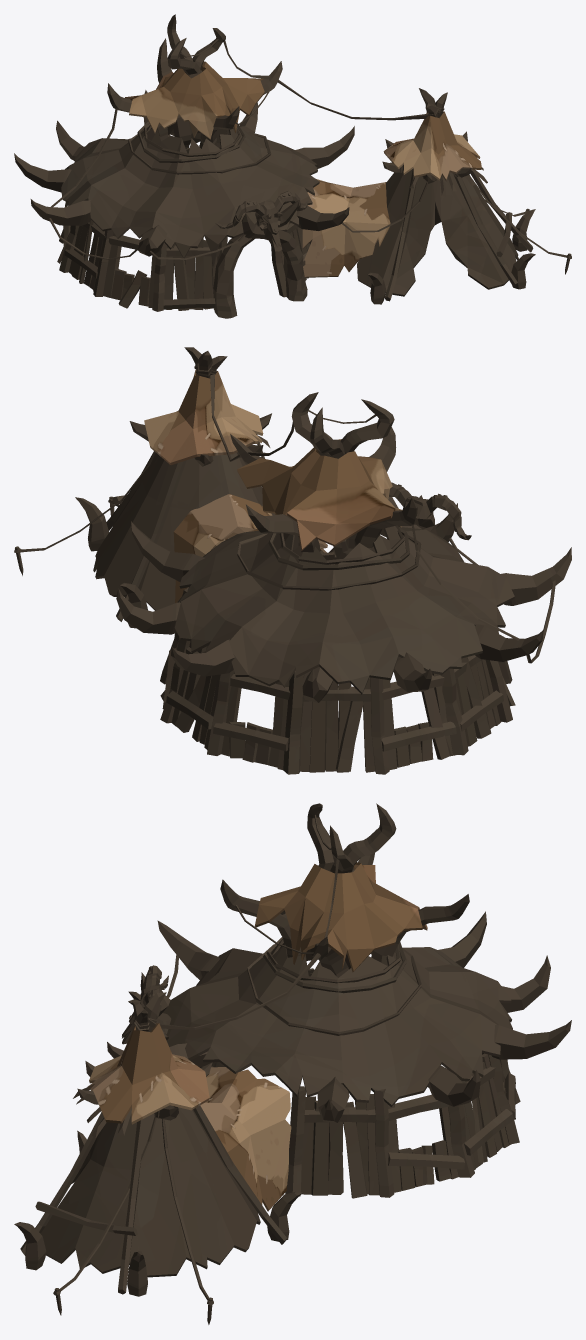
Rendered from bog_shaman_hut.gltf.
3 views of the same model, one above another, from view 1: azimuth 30°, elevation 25°; view 2: azimuth 150°, elevation 25°; view 3: azimuth 270°, elevation 25° (orthographic). The views are drawn at different scales.
Parts seen in each view (by area): view 1: bog_shaman_hut; view 2: bog_shaman_hut; view 3: bog_shaman_hut.
Boxes of the visible parts, x1=… form: bog_shaman_hut: x1=14, y1=14, x2=571, y2=318; bog_shaman_hut: x1=14, y1=347, x2=571, y2=774; bog_shaman_hut: x1=14, y1=803, x2=571, y2=1324.
Bounding box in the file's own units: 13.06 × 6.76 × 10.32.
Materials: 2 (2 with a texture image).
